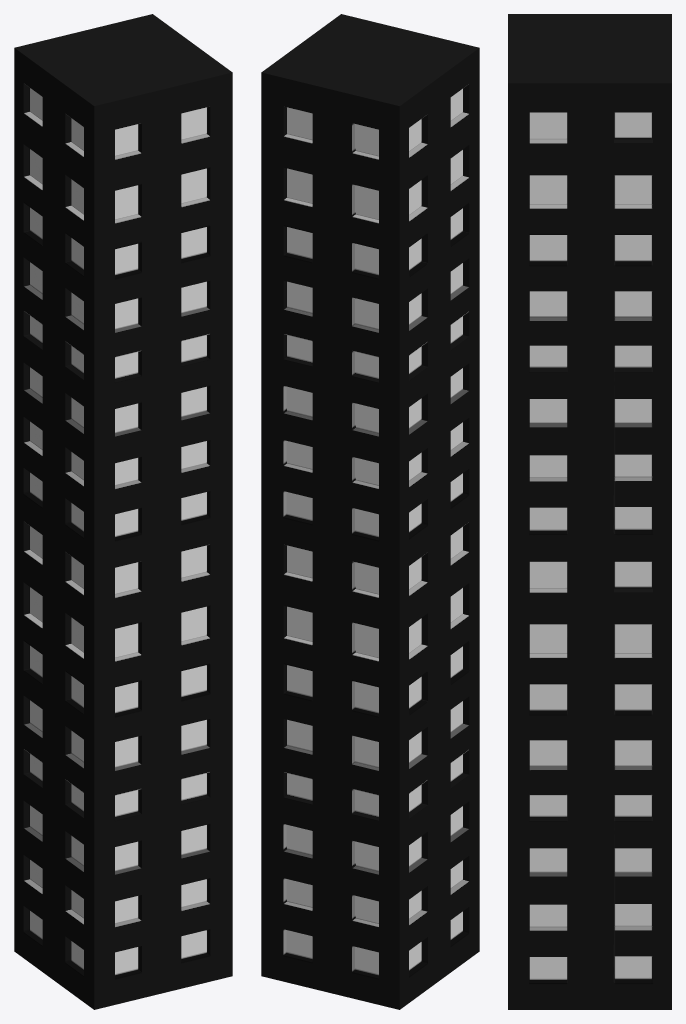
File: Background.fbx
3 renders of one model, left to right at view 1: azimuth 30°, elevation 25°; view 2: azimuth 150°, elevation 25°; view 3: azimuth 270°, elevation 25°, orthographic. The views are drawn at different scales.
Parts seen in each view (by area): view 1: Cube.001; view 2: Cube.001; view 3: Cube.001.
Part boxes in pixels (x1,y1,x2,y2): Cube.001: [14, 14, 232, 1009]; Cube.001: [261, 14, 479, 1009]; Cube.001: [508, 14, 671, 1009].
Size of the model in its own units: 49.18 by 307 by 49.17.
